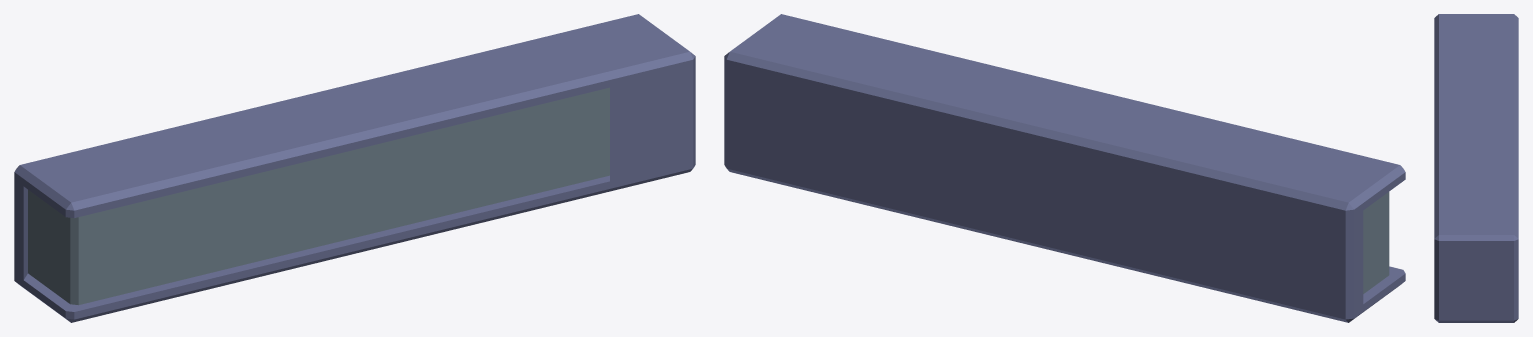
Rendered from CbpBillboard E.fbx.
3 renders of one model, left to right at view 1: azimuth 30°, elevation 25°; view 2: azimuth 150°, elevation 25°; view 3: azimuth 270°, elevation 25°, orthographic. The views are drawn at different scales.
Visible parts, largest first — view 1: CbpBillboard E; view 2: CbpBillboard E; view 3: CbpBillboard E.
Part boxes in pixels (box(x1,y1,x2,y2)): CbpBillboard E: box(14, 14, 695, 322); CbpBillboard E: box(724, 14, 1405, 322); CbpBillboard E: box(1434, 14, 1518, 322).
Size of the model in its own units: 3.55 by 0.6486 by 0.5643.
